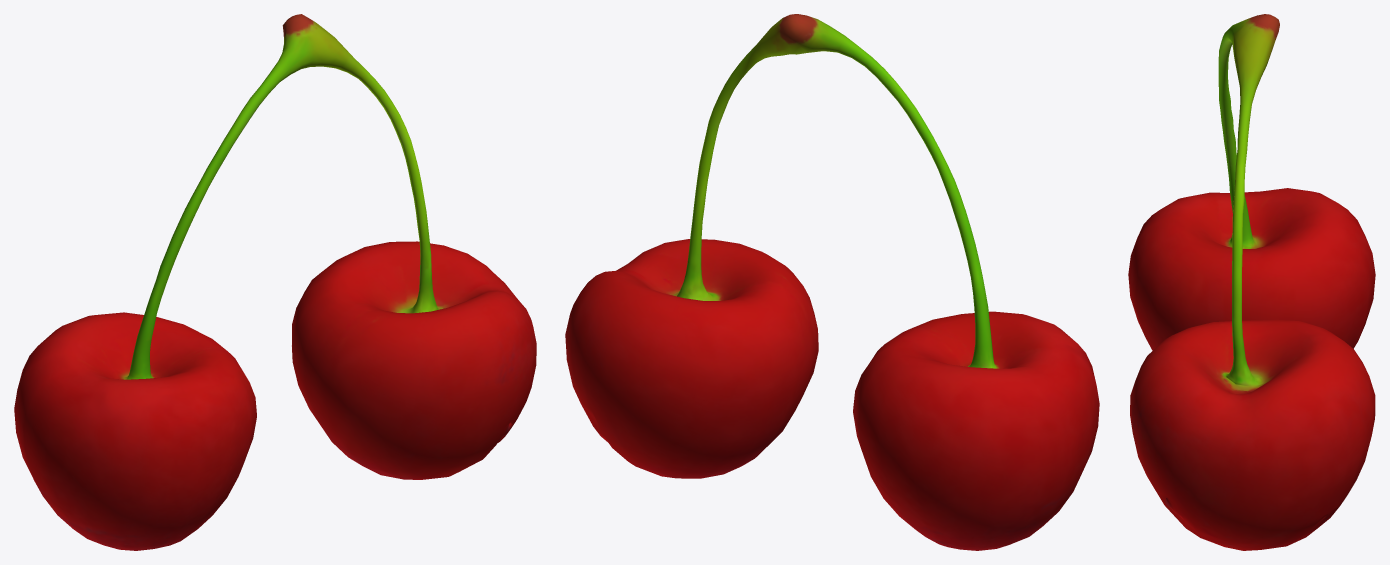
The model's file is suica-cherry.glb.
3 renders of one model, left to right at view 1: azimuth 30°, elevation 25°; view 2: azimuth 150°, elevation 25°; view 3: azimuth 270°, elevation 25°, orthographic. The views are drawn at different scales.
Visible parts, largest first — view 1: Mesh; view 2: Mesh; view 3: Mesh.
Boxes of the visible parts, <box> form: Mesh: <box>14,14,536,550</box>; Mesh: <box>565,14,1099,550</box>; Mesh: <box>1128,14,1375,550</box>.
Bounding box in the file's own units: 20.79 × 19.46 × 9.28.
Materials: 1 (1 with a texture image).
